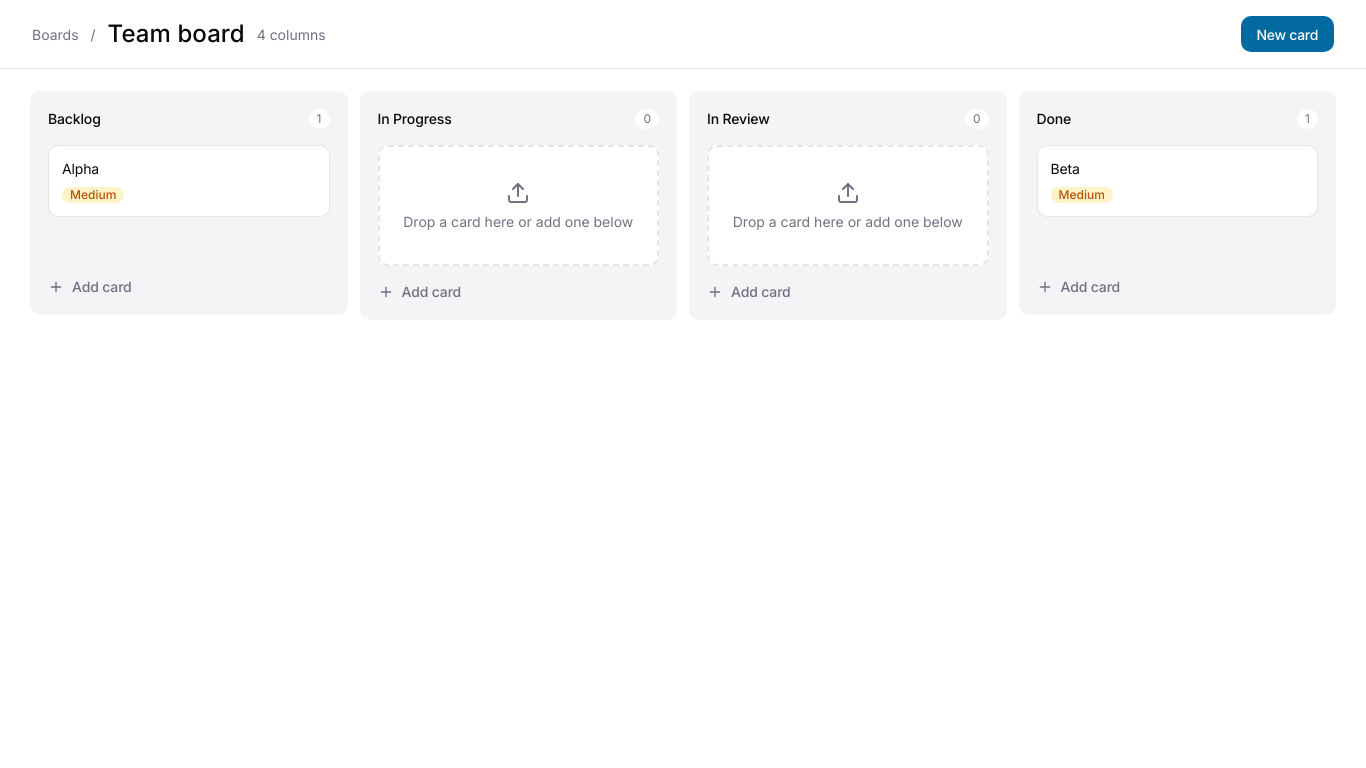
Board › deletes a card after confirmation
The image size is (1366, 768).
Expected: the text "Alpha" is shown, [62,160,99,177]
What coordinates should you click on to do the following:
click the button with aria-label "Alpha."
I would click on:
 (81, 168)
Its box is [48,145,330,217].
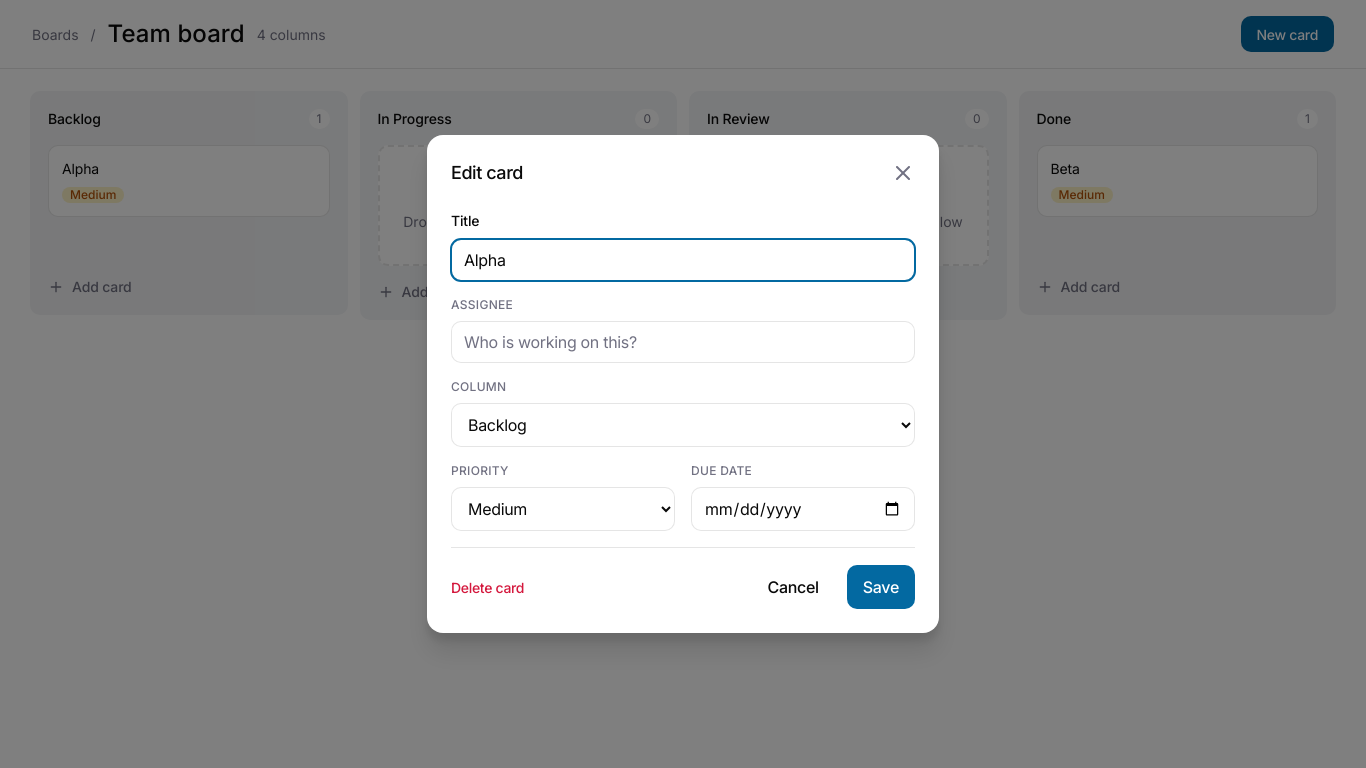
What coordinates should you click on to do the following:
click the button "Delete card"
I would click on:
 (488, 587)
Its box is [451,575,524,599].
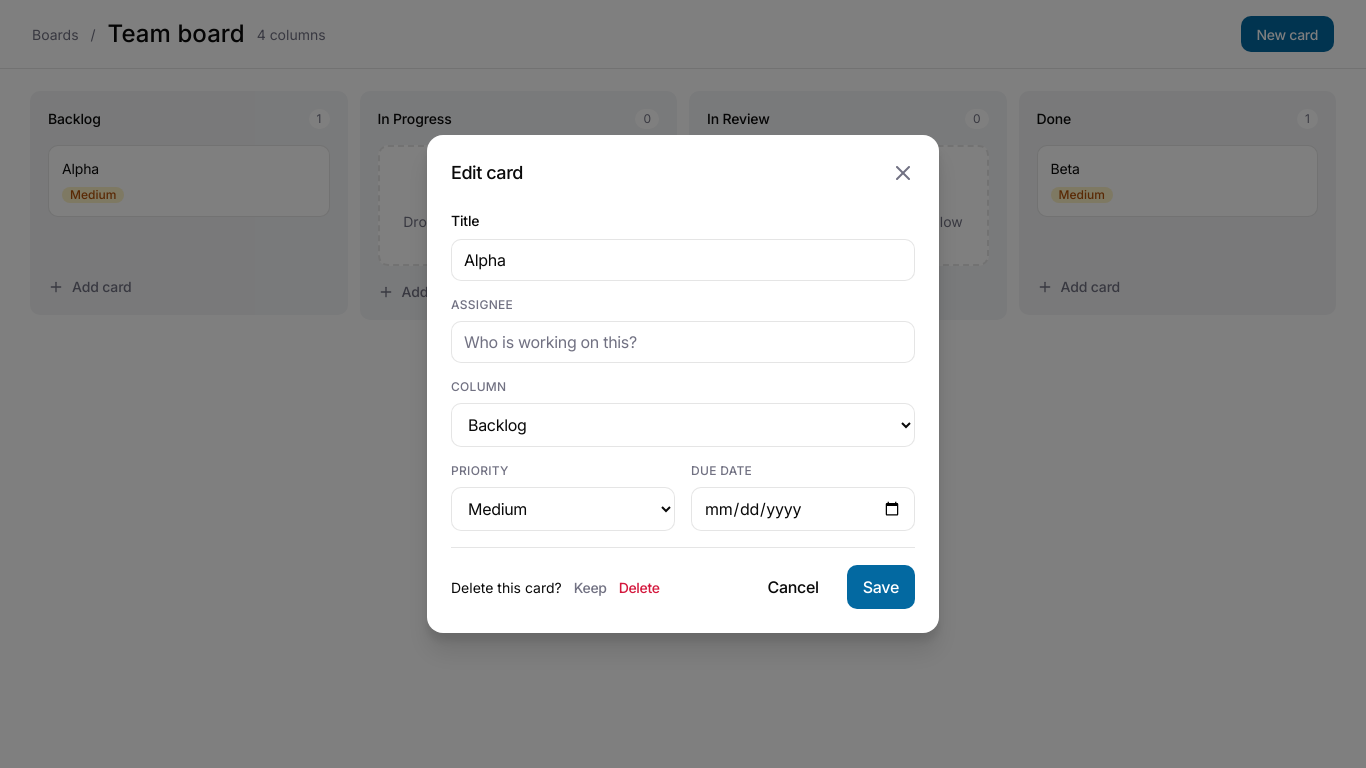
What coordinates should you click on to do the following:
click the button "Delete"
I would click on:
 (639, 587)
Its box is [619,575,660,599].
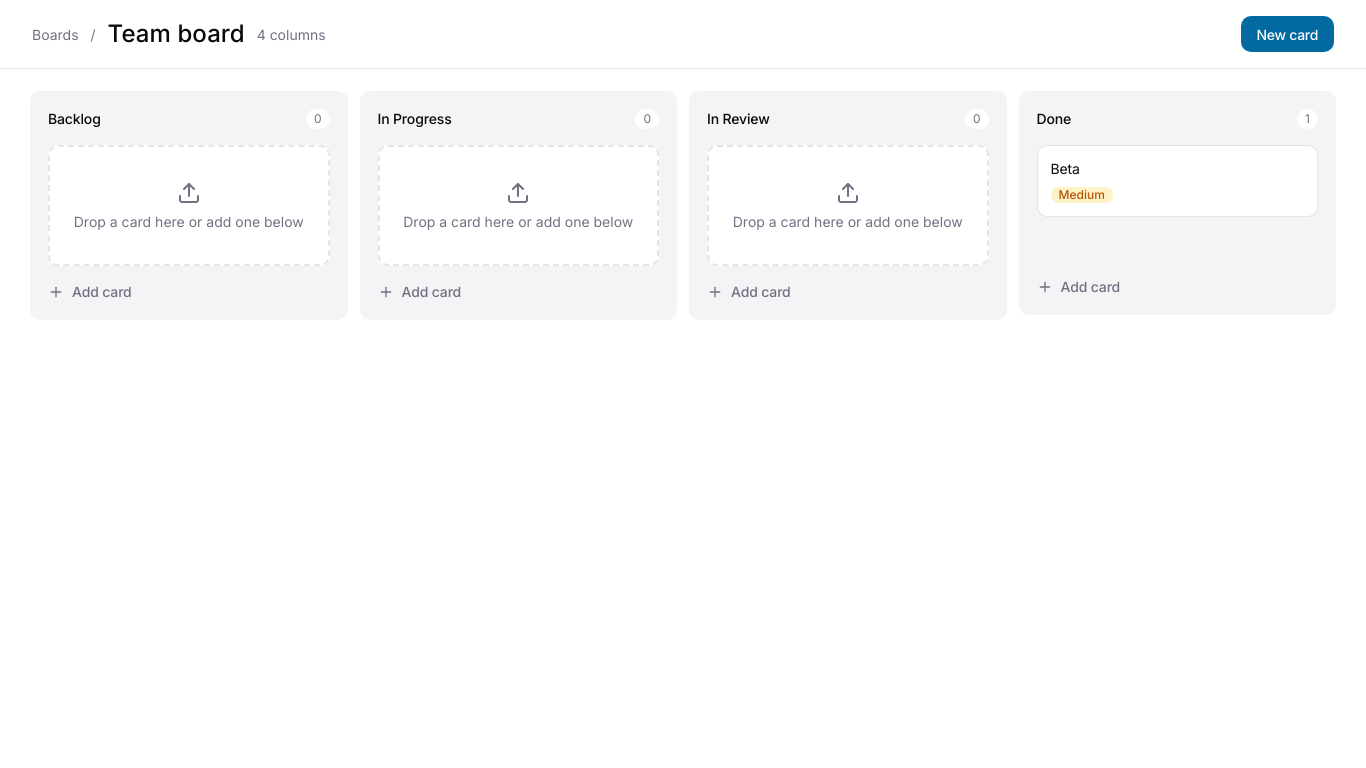
Expected: the button "Alpha" is gone
Expected: the dialog is gone
